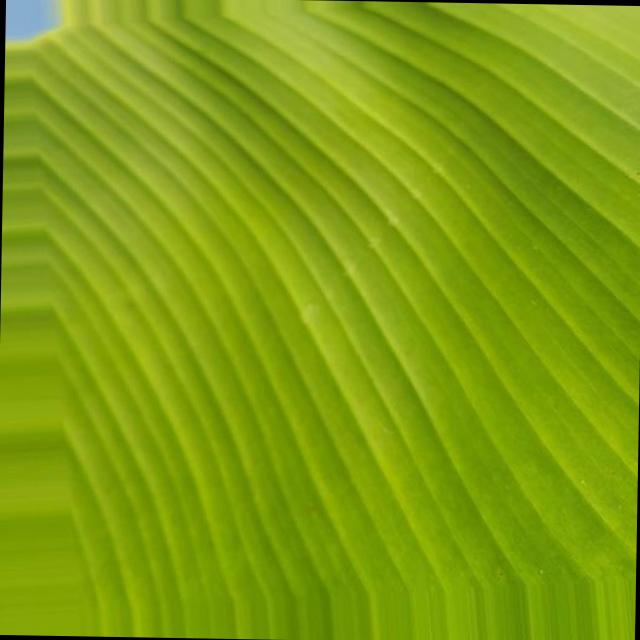Banana_Healthy: (153, 108, 556, 530)
